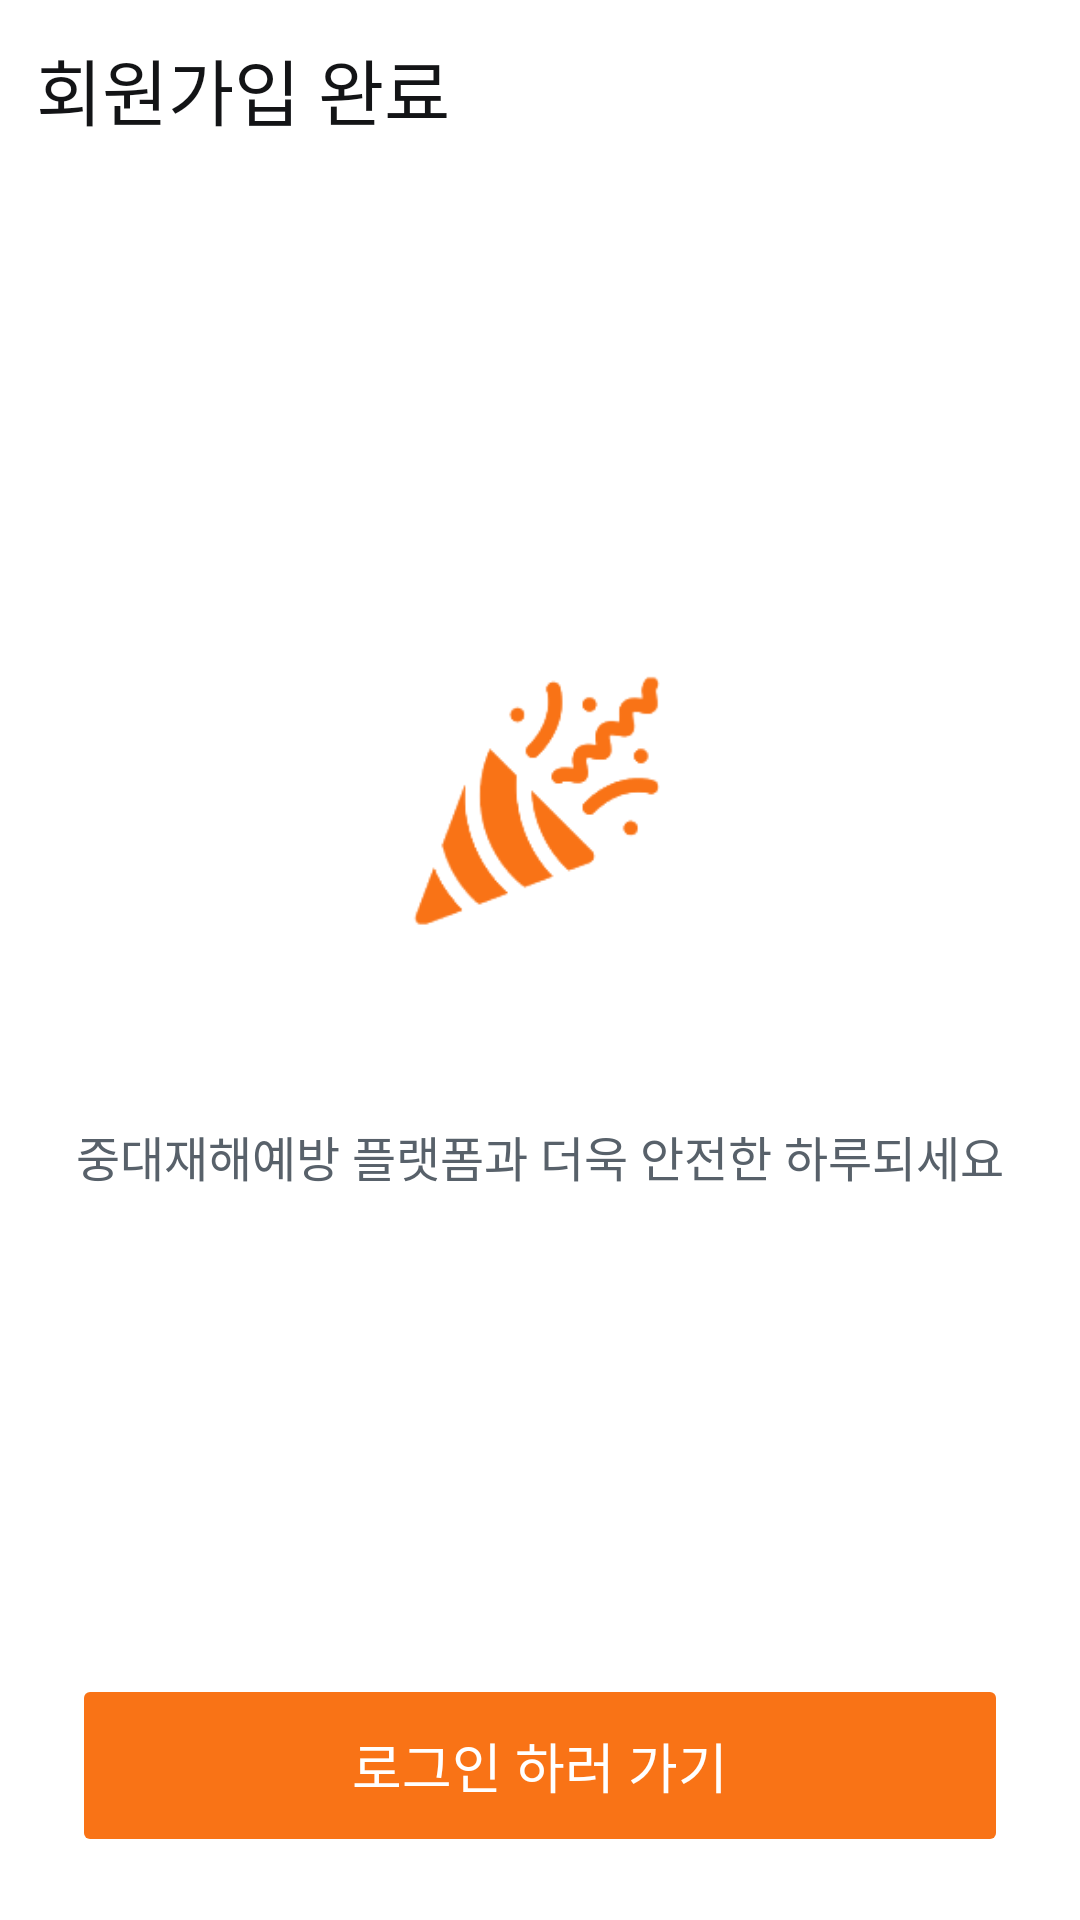

Named icons in this screenshot (1080px x 1920px) and their centers, (x,y):
fireworks: (537,801)
